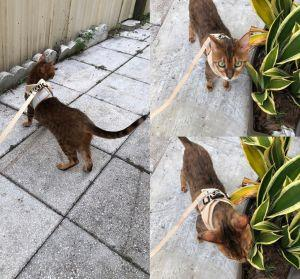bengal: (207, 32, 253, 86)
